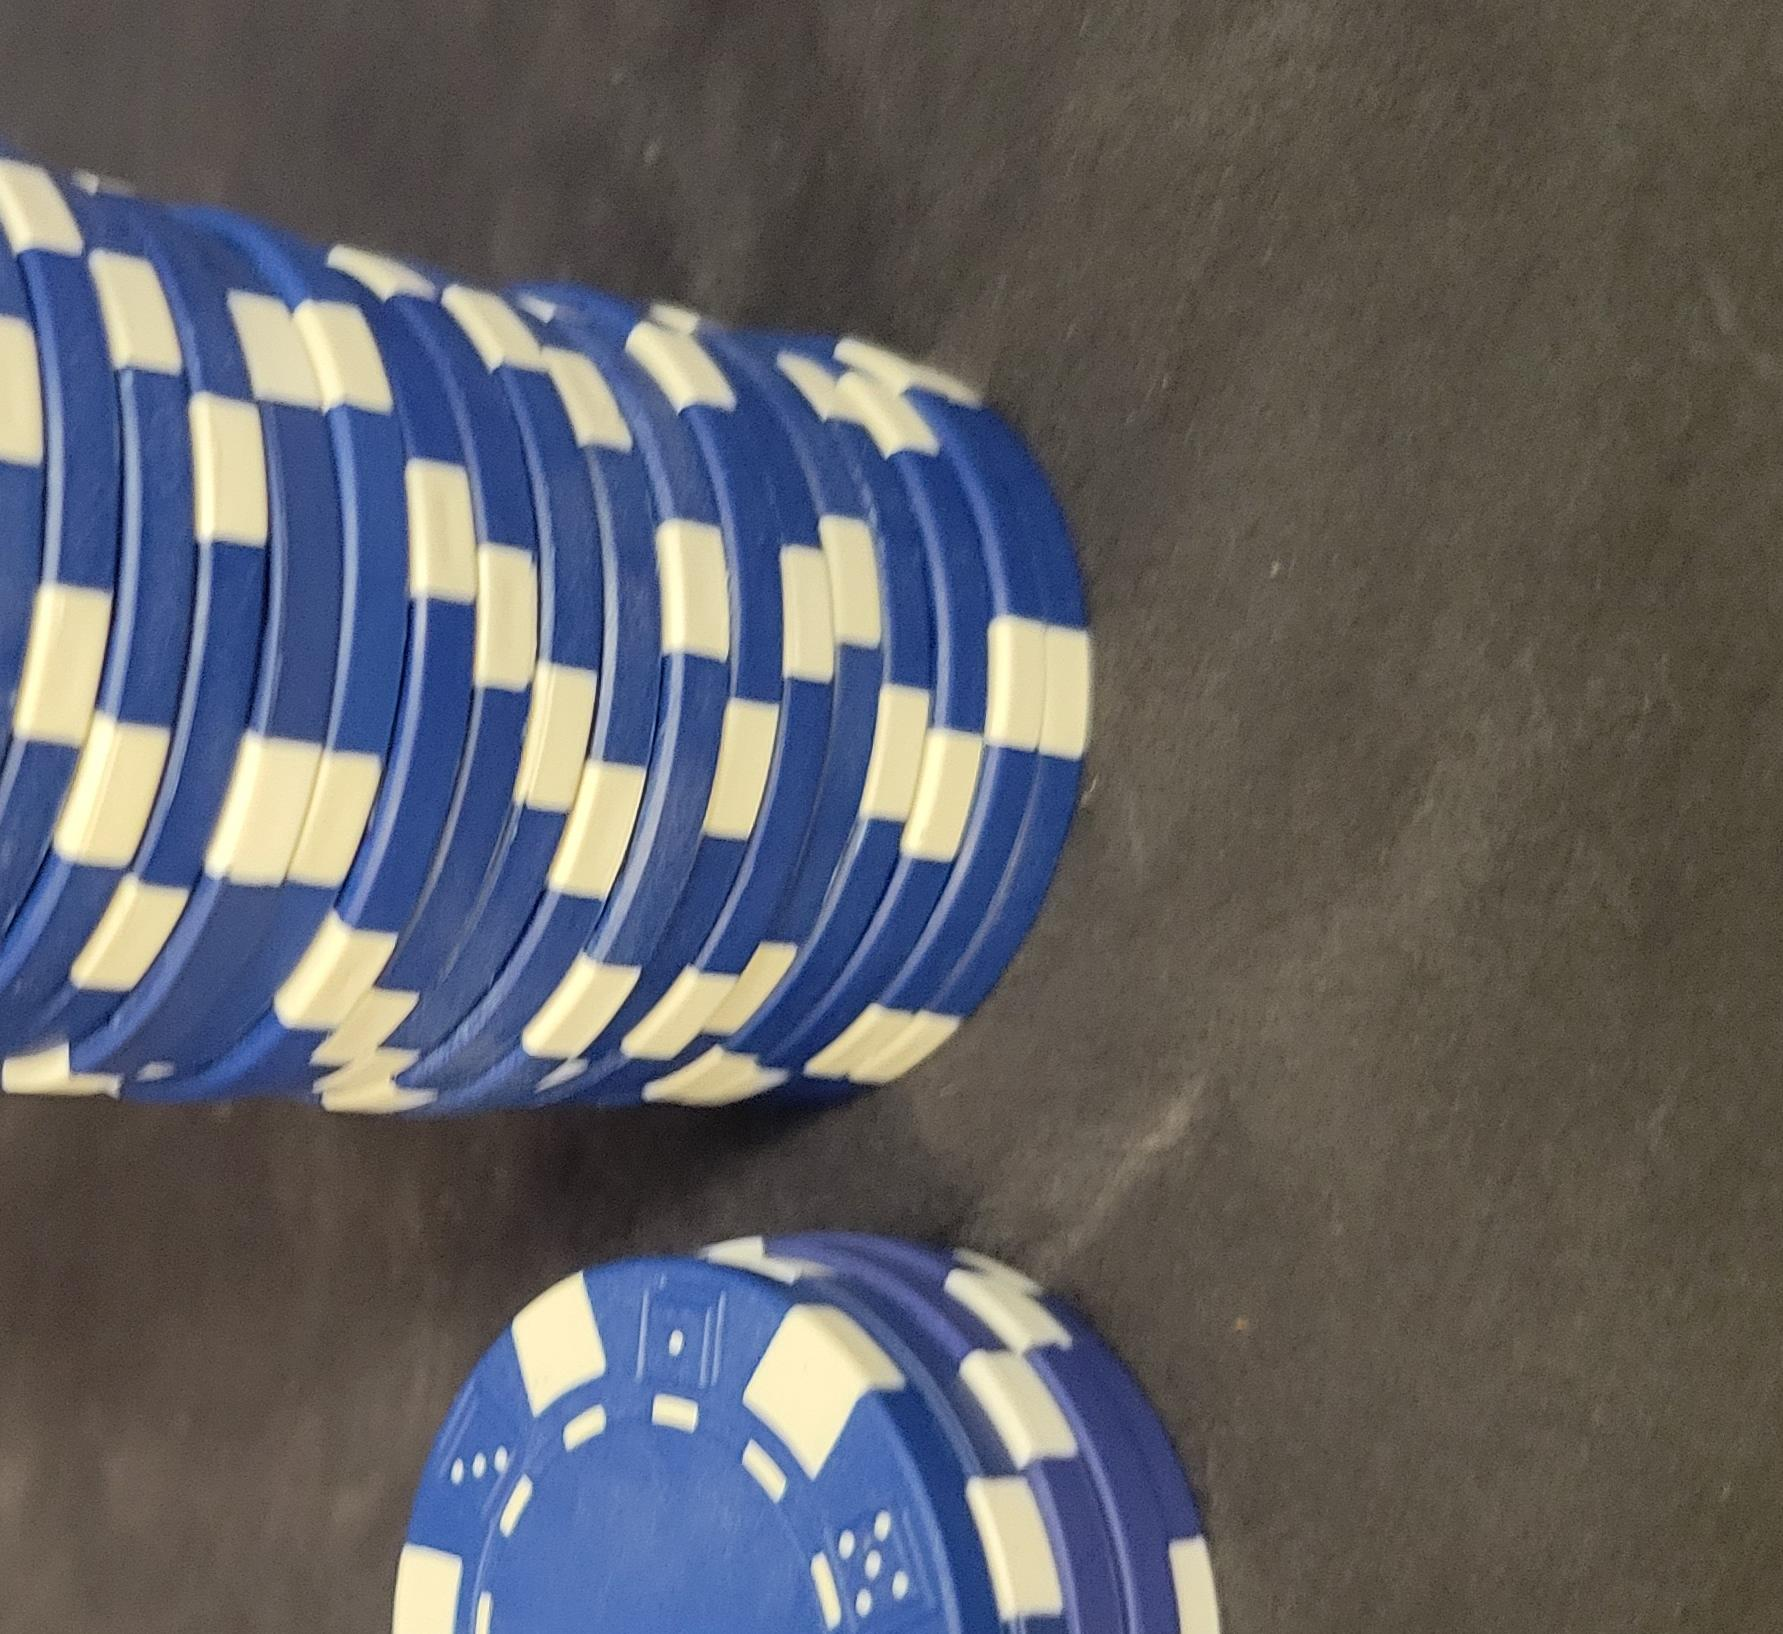Chip: (2, 162, 912, 1634)
